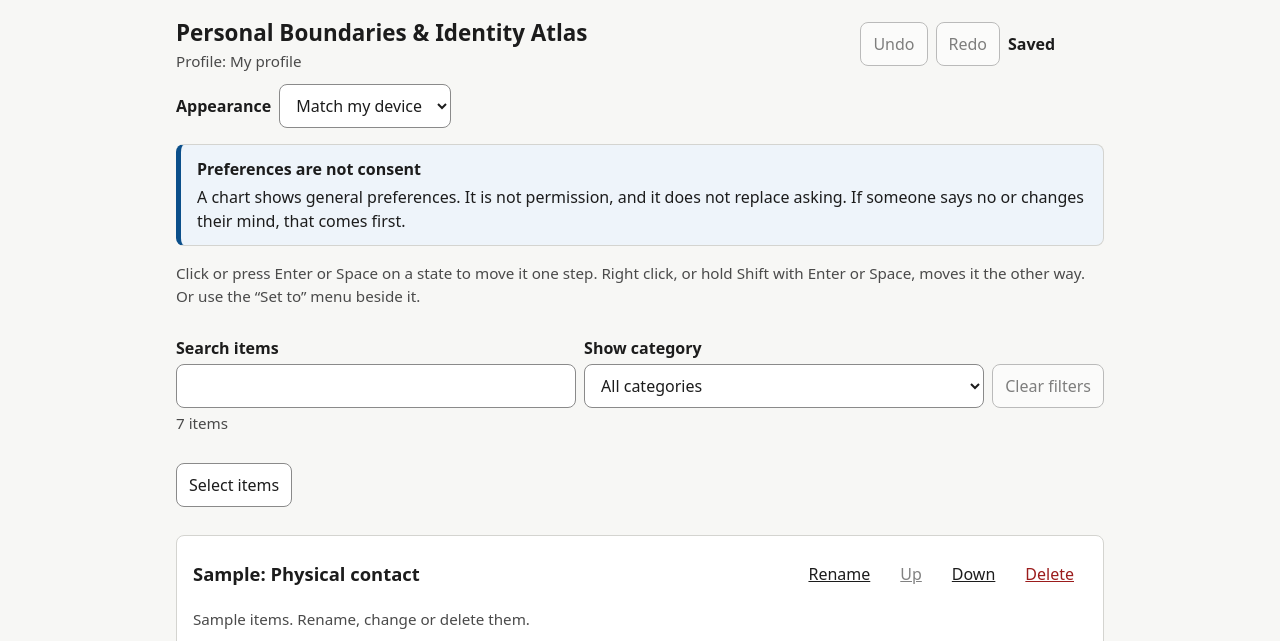
it: selecting items (M2-07) › Select all shown follows the filter, and Clear selection empties it
Expected: the heading "Personal Boundaries & Identity Atlas" is shown, [176, 16, 588, 50]
Click the button "Select items": (234, 485) [176, 463, 292, 507]
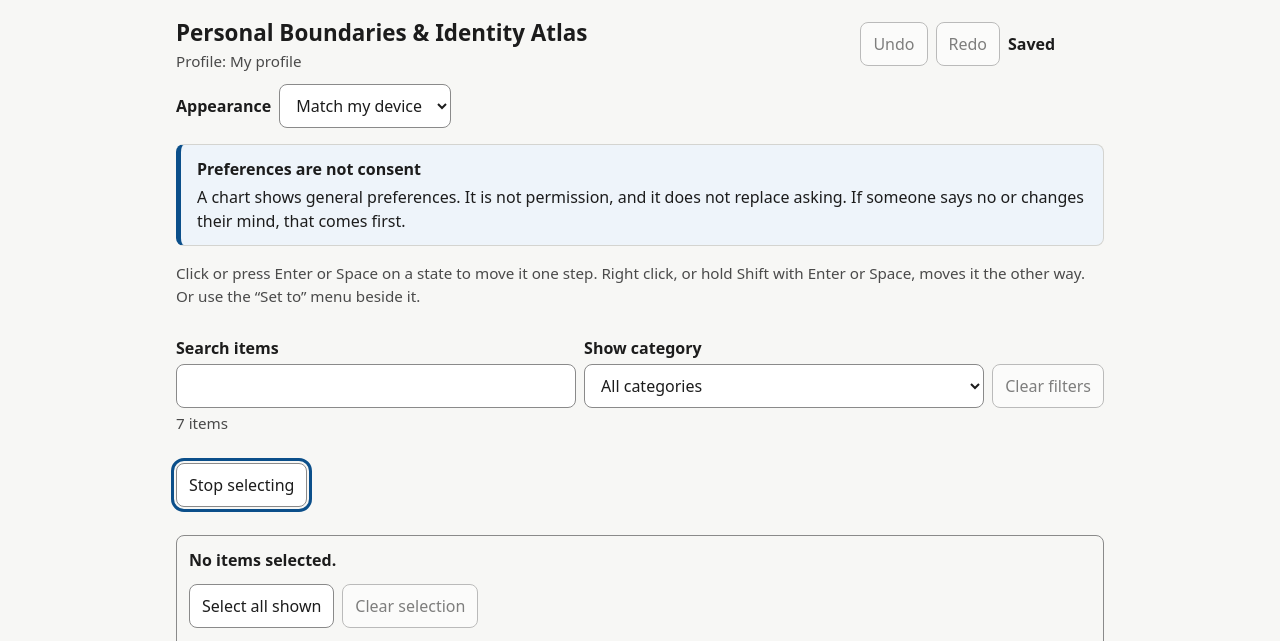
In the search field labelled "Search items": (376, 386) [176, 364, 576, 408], type "contacted"
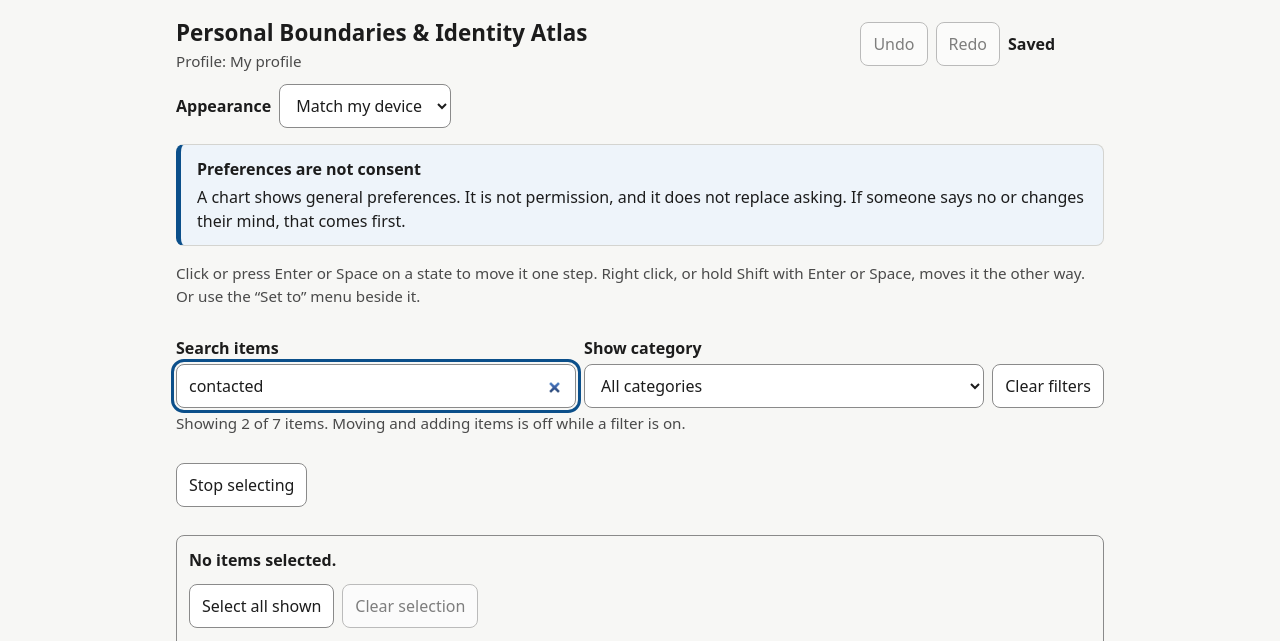
Click the button "Select all shown": (262, 606) [189, 584, 334, 628]
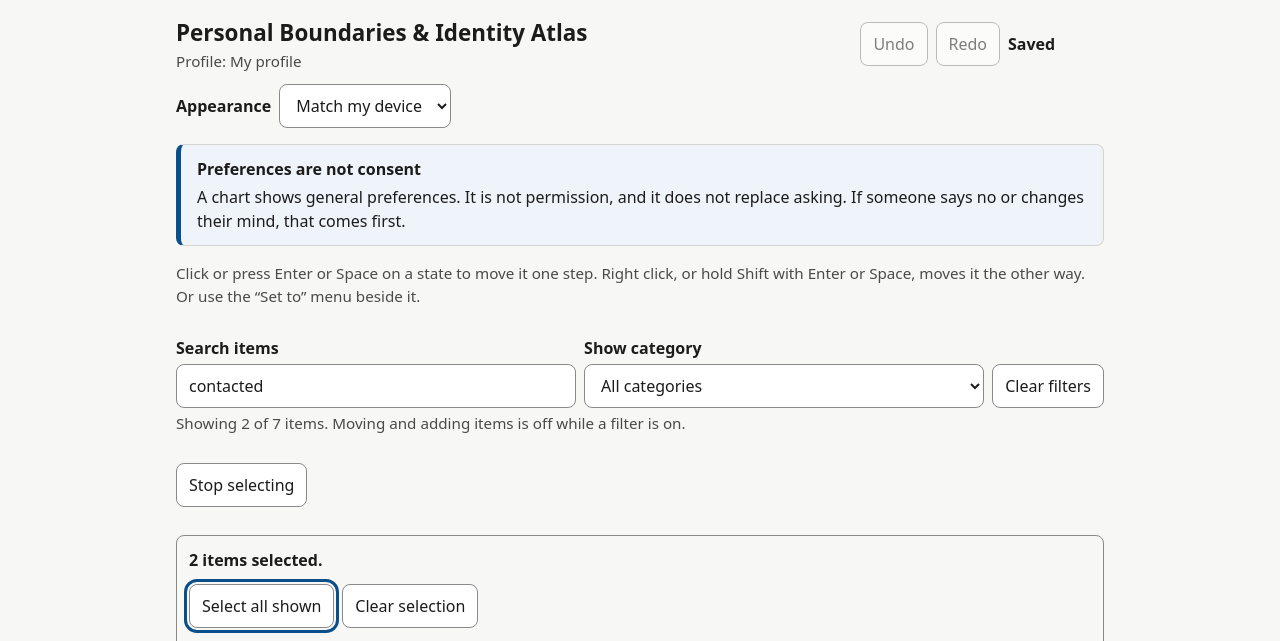
Now the message with class "bulk-count" reads "2 items selected.", box [189, 549, 322, 571]
Click the button "Clear selection": (410, 606) [342, 584, 478, 628]
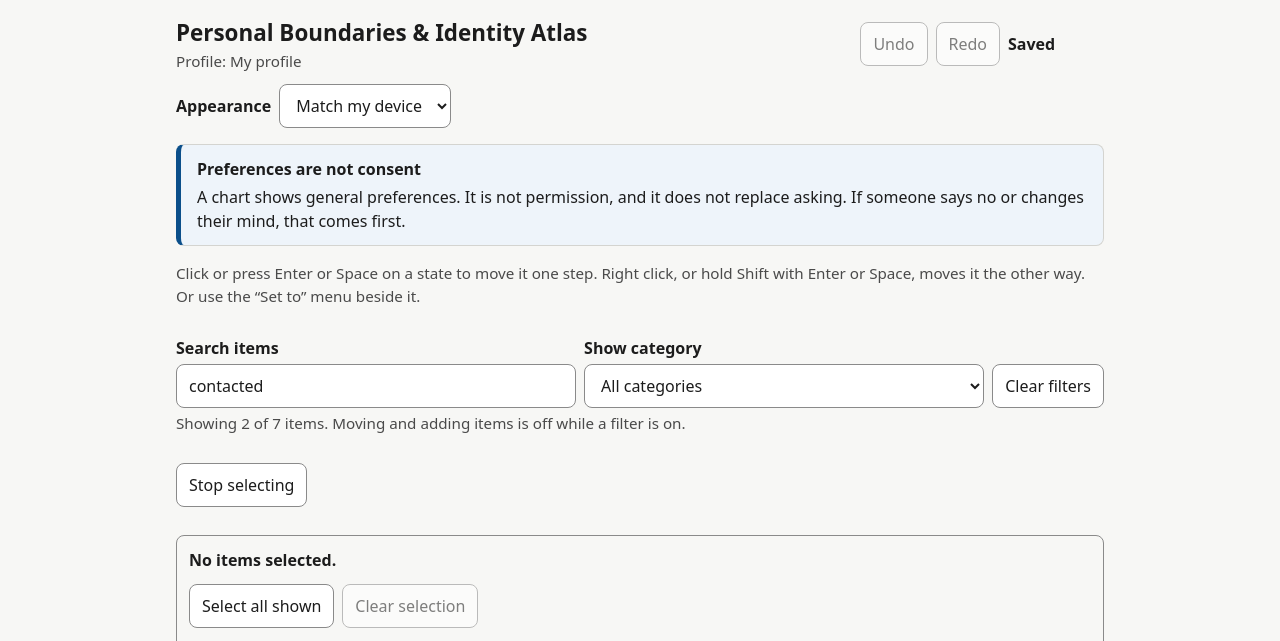
Now the message with class "bulk-count" reads "No items selected.", box [189, 549, 336, 571]
